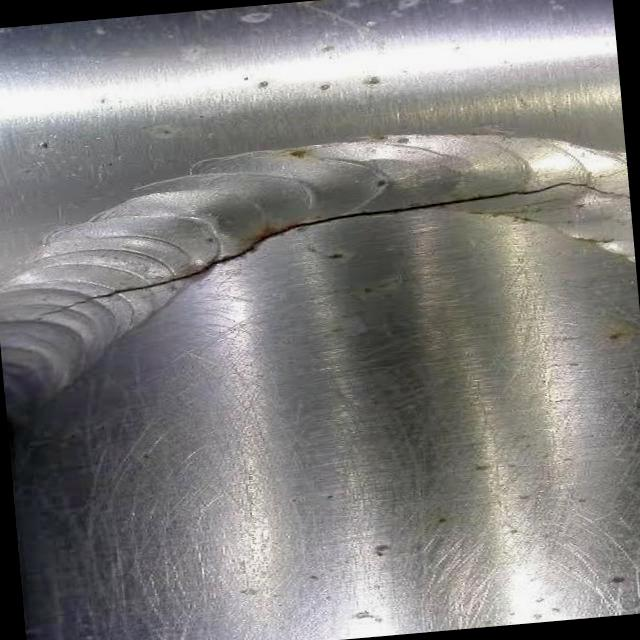defect: (22, 178, 630, 322)
